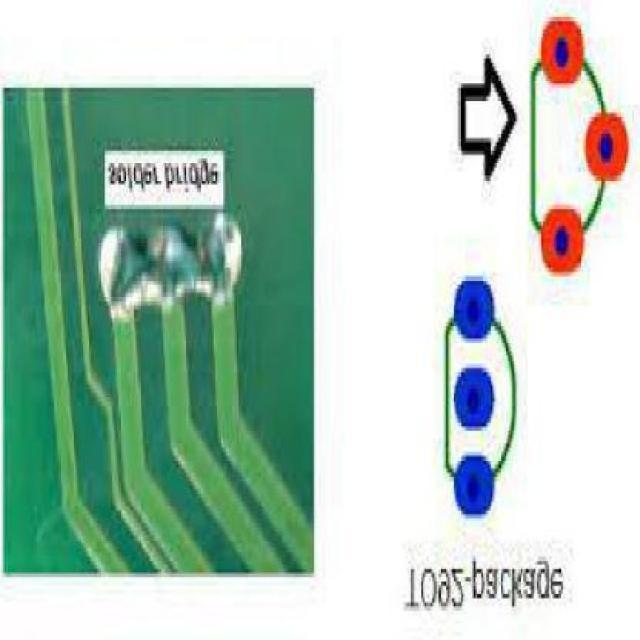Soldering shorted: (96, 213, 238, 347)
